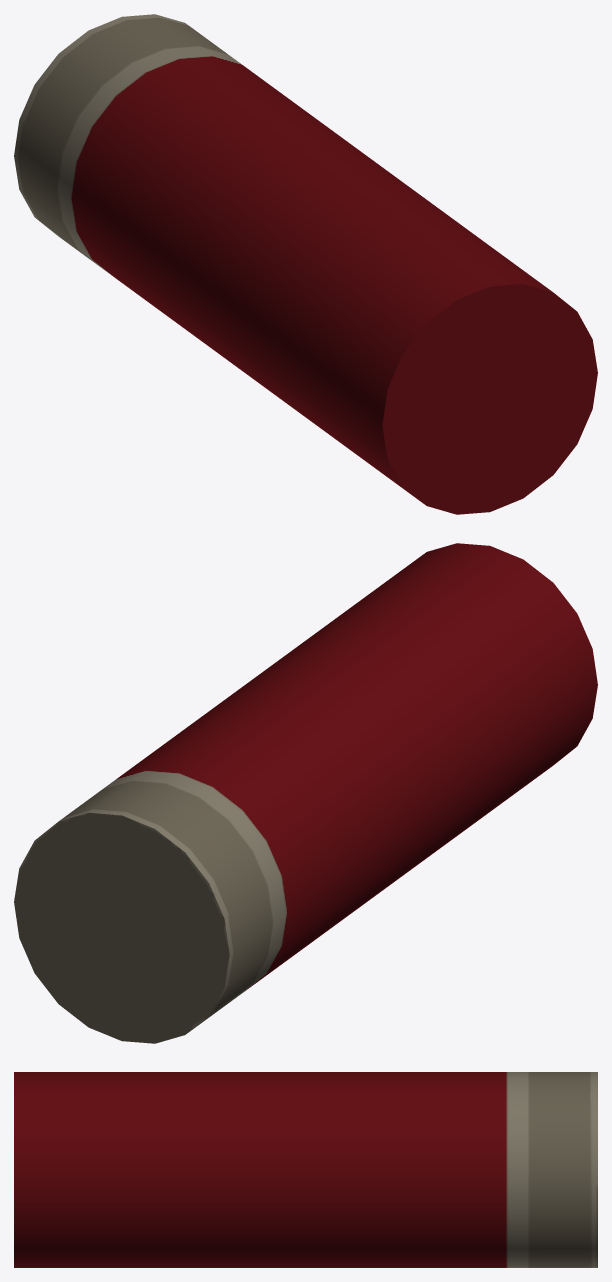
Rendered from bullet fix.fbx.
3 renders of one model, top to bottom at view 1: azimuth 30°, elevation 25°; view 2: azimuth 150°, elevation 25°; view 3: azimuth 270°, elevation 25°, orthographic. The views are drawn at different scales.
Parts seen in each view (by area): view 1: tf2_shotgun:tf2_shotgun_0012:bullet; view 2: tf2_shotgun:tf2_shotgun_0012:bullet; view 3: tf2_shotgun:tf2_shotgun_0012:bullet.
Part boxes in pixels (<box>): tf2_shotgun:tf2_shotgun_0012:bullet: <box>14,14,597,514</box>; tf2_shotgun:tf2_shotgun_0012:bullet: <box>14,543,597,1043</box>; tf2_shotgun:tf2_shotgun_0012:bullet: <box>14,1072,597,1267</box>.
Size of the model in its own units: 0.0309 by 0.0309 by 0.0915.
